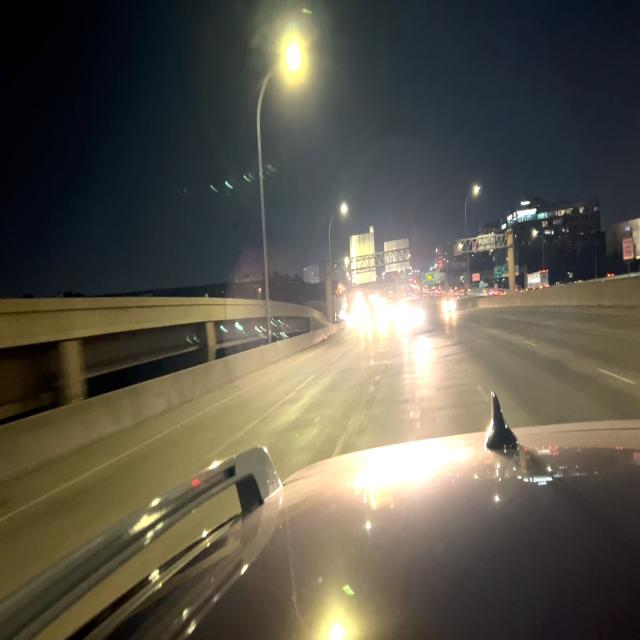back-of-sign: (348, 224, 377, 286), (384, 234, 411, 276)
